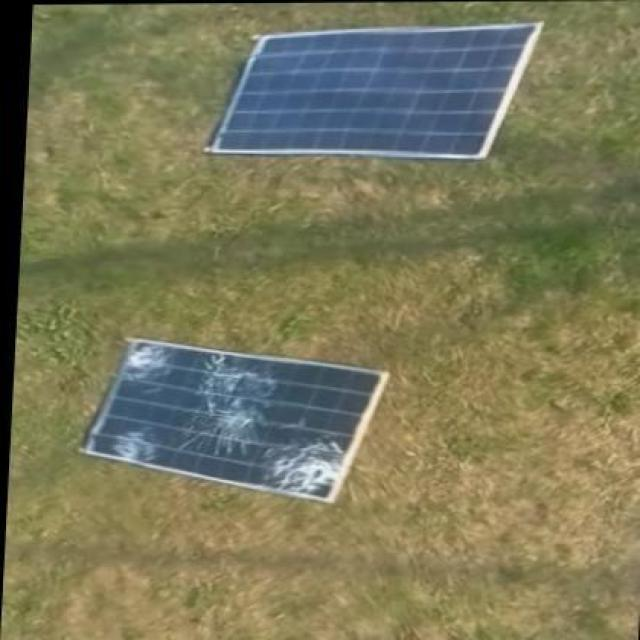cracked: (76, 334, 389, 506)
